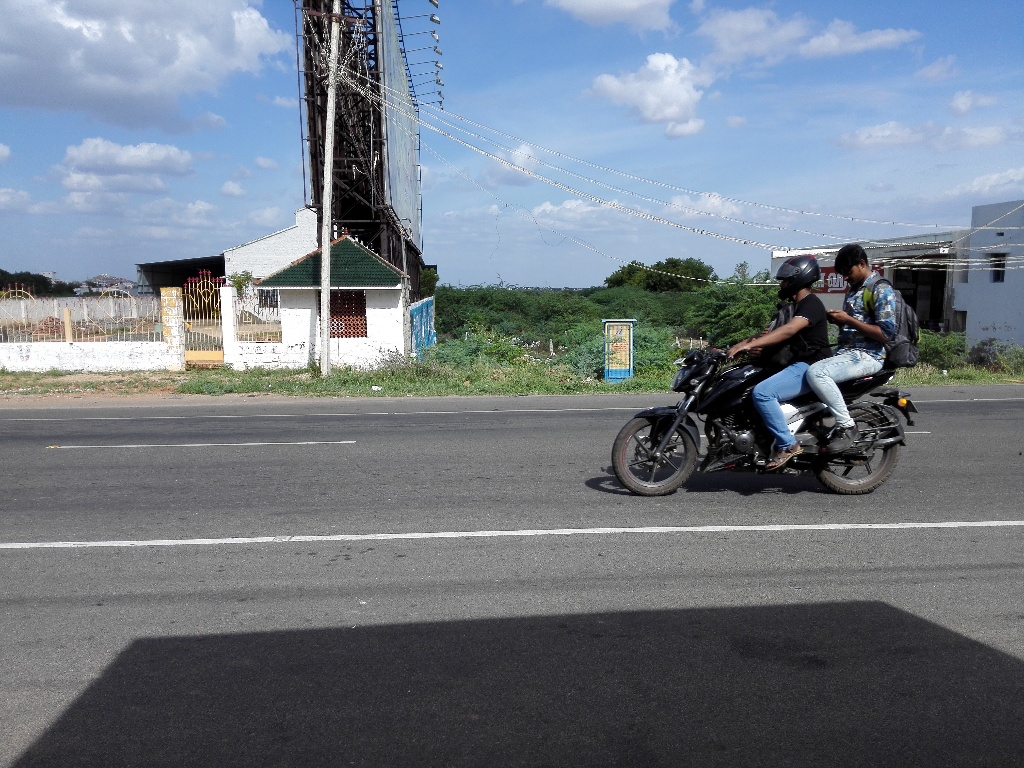biker: (598, 218, 945, 508)
helmet: (764, 242, 827, 315)
nohelmet: (832, 234, 877, 295)
